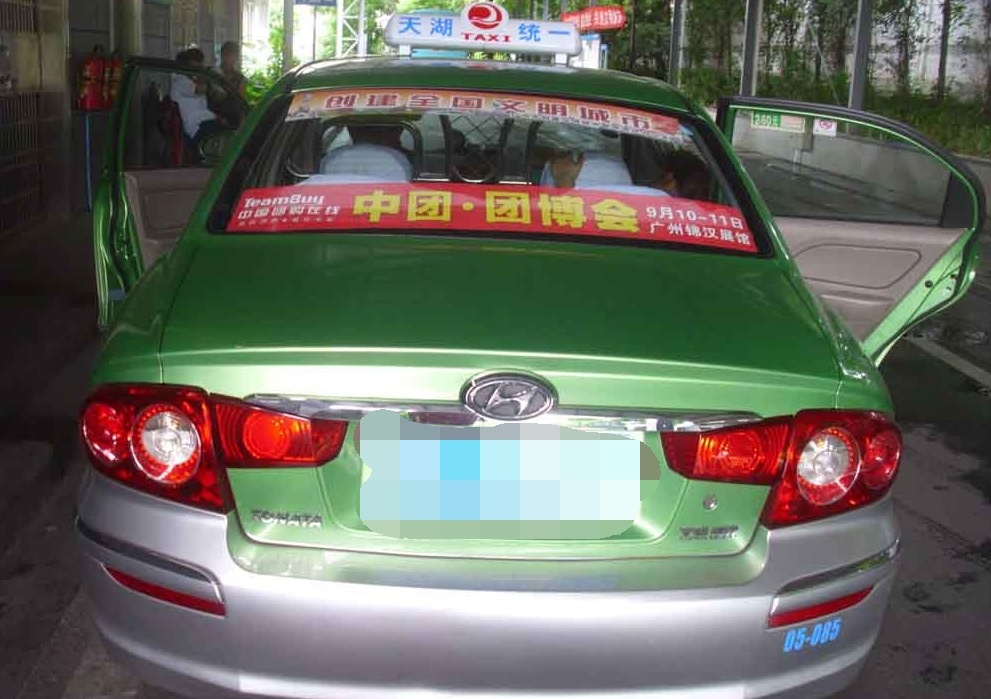taxi: (117, 4, 892, 699)
